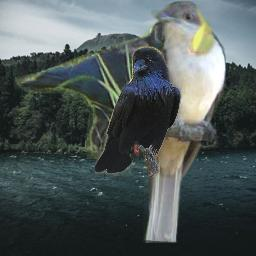Crow: (15, 14, 199, 159), (95, 46, 181, 177)
Cuckoo: (138, 1, 226, 243)
